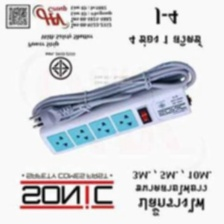three_eye_plug: (36, 76, 193, 157)
